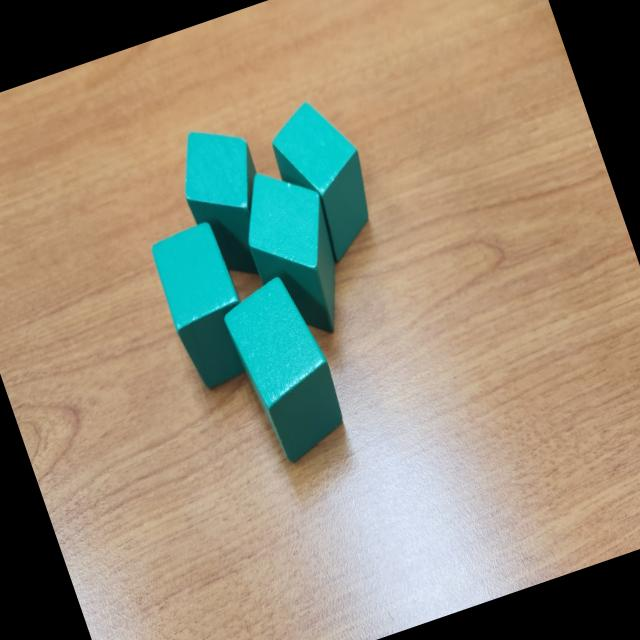green: (215, 268, 355, 468), (226, 154, 364, 349), (262, 92, 389, 270), (165, 112, 289, 288), (144, 220, 266, 396)
